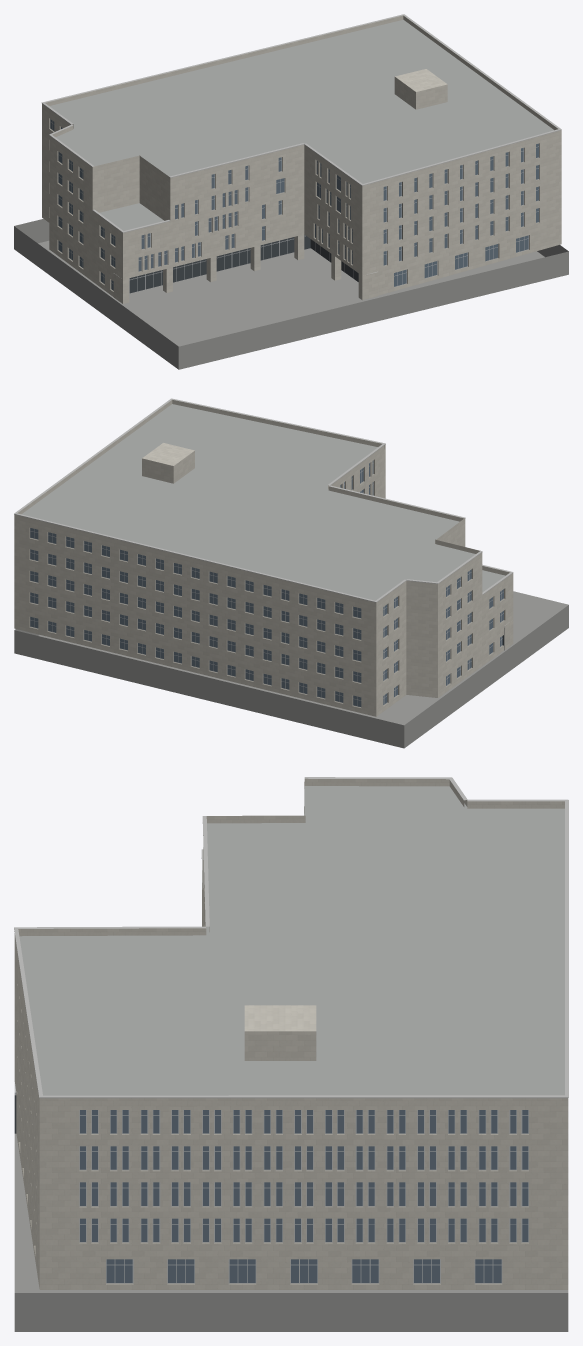
The picture shows the model from 3 angles, top to bottom: view 1: azimuth 30°, elevation 25°; view 2: azimuth 150°, elevation 25°; view 3: azimuth 270°, elevation 25°; orthographic projection. The views are drawn at different scales.
Parts seen in each view (by area): view 1: veritasA__wall, veritasA__roof, veritasA__basement, veritasA__glass, veritasA__reveal, veritasA__frame, veritasA__glassDark, veritasA__cap, veritasA__column; view 2: veritasA__wall, veritasA__roof, veritasA__basement, veritasA__glass, veritasA__frame, veritasA__reveal, veritasA__cap; view 3: veritasA__roof, veritasA__wall, veritasA__basement, veritasA__glass, veritasA__frame, veritasA__cap, veritasA__reveal.
Part boxes in pixels (bbox=[...]): veritasA__wall: bbox=[42, 15, 561, 303]; veritasA__roof: bbox=[49, 19, 553, 230]; veritasA__basement: bbox=[14, 219, 568, 369]; veritasA__glass: bbox=[50, 119, 538, 290]; veritasA__reveal: bbox=[49, 118, 539, 291]; veritasA__frame: bbox=[50, 121, 539, 293]; veritasA__glassDark: bbox=[129, 234, 358, 293]; veritasA__cap: bbox=[41, 14, 561, 232]; veritasA__column: bbox=[123, 234, 362, 303]; veritasA__wall: bbox=[14, 400, 513, 716]; veritasA__roof: bbox=[22, 404, 505, 600]; veritasA__basement: bbox=[14, 591, 568, 748]; veritasA__glass: bbox=[30, 461, 503, 706]; veritasA__frame: bbox=[30, 460, 504, 707]; veritasA__reveal: bbox=[29, 459, 505, 707]; veritasA__cap: bbox=[14, 398, 513, 602]; veritasA__roof: bbox=[19, 786, 564, 1095]; veritasA__wall: bbox=[14, 778, 568, 1289]; veritasA__basement: bbox=[14, 1133, 568, 1331]; veritasA__glass: bbox=[80, 1110, 528, 1282]; veritasA__frame: bbox=[14, 1092, 528, 1283]; veritasA__cap: bbox=[14, 777, 568, 1098]; veritasA__reveal: bbox=[17, 873, 528, 1284].
Size of the model in its own units: 74.01 by 27.7 by 54.18.
Materials: 10 (3 with a texture image).
